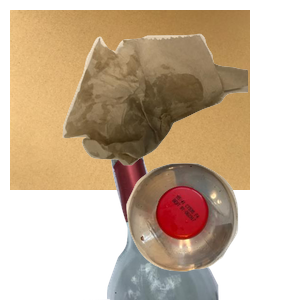cardboard: (10, 10, 250, 190)
glass: (83, 120, 294, 300)
plastic: (124, 161, 300, 300)
trash: (60, 31, 300, 189)
